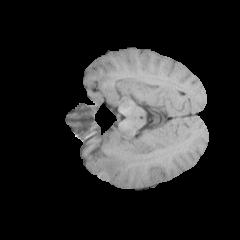glioma: (88, 141, 139, 181)
